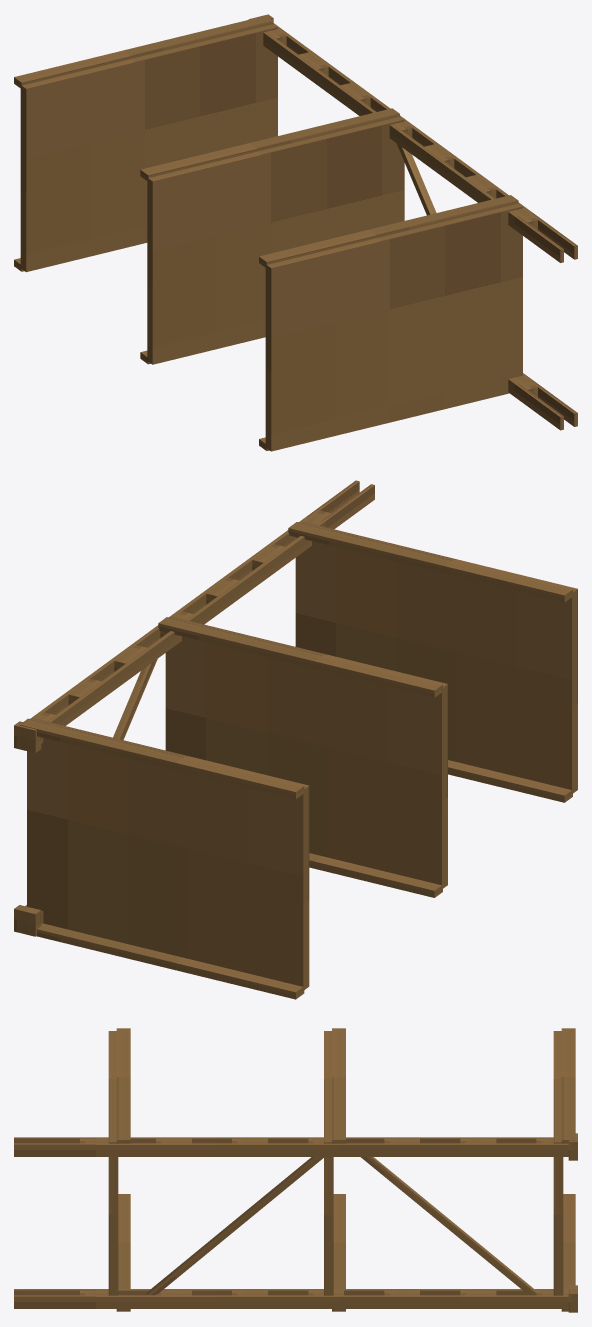
File: rack_right_empty.obj
3 renders of one model, top to bottom at view 1: azimuth 30°, elevation 25°; view 2: azimuth 150°, elevation 25°; view 3: azimuth 270°, elevation 25°, orthographic. The views are drawn at different scales.
Visible parts, largest first — view 1: rack_right_empty; view 2: rack_right_empty; view 3: rack_right_empty.
Boxes of the visible parts, box(x1,y1,x2,y2) form: rack_right_empty: box(14, 14, 577, 451); rack_right_empty: box(14, 480, 577, 999); rack_right_empty: box(14, 1028, 577, 1312).
Bounding box in the file's own units: 0.934 × 0.66 × 1.97.
1 material, 1 textured.
